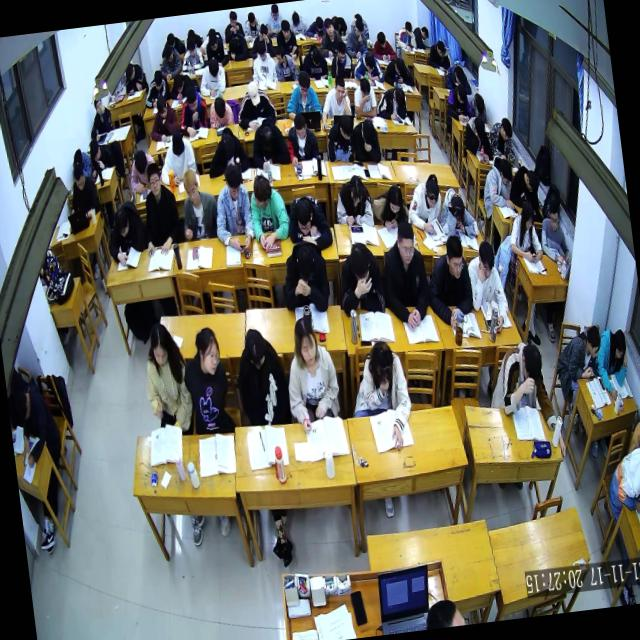bow: (102, 198, 149, 267), (283, 188, 333, 252), (202, 122, 251, 178), (246, 116, 292, 174), (436, 180, 479, 240), (369, 181, 410, 233), (505, 162, 543, 210), (350, 47, 385, 89), (382, 54, 416, 89), (443, 61, 472, 99), (206, 92, 234, 128), (68, 142, 92, 178), (122, 57, 148, 88), (167, 68, 193, 99), (226, 28, 250, 60), (326, 8, 349, 38), (302, 13, 326, 40)
down: (367, 337, 397, 384), (518, 340, 546, 386), (448, 304, 482, 341), (242, 324, 268, 372), (442, 233, 467, 281), (346, 240, 372, 284), (292, 241, 316, 281), (8, 384, 32, 422), (180, 166, 202, 206), (223, 161, 245, 201), (476, 238, 496, 282), (292, 197, 314, 234), (422, 170, 441, 208), (584, 321, 602, 358), (256, 120, 276, 153), (385, 182, 404, 215), (610, 326, 628, 359), (448, 194, 466, 226), (518, 200, 536, 232), (217, 130, 236, 160), (348, 173, 365, 205), (112, 206, 130, 236), (358, 117, 376, 147), (336, 112, 354, 142), (522, 164, 540, 194), (296, 68, 312, 100), (292, 110, 308, 140), (169, 128, 186, 156), (132, 146, 148, 175), (498, 157, 514, 186), (184, 82, 199, 112), (498, 116, 514, 143), (72, 162, 86, 190), (356, 73, 371, 99), (471, 114, 486, 140), (212, 96, 228, 120), (333, 75, 347, 102), (154, 94, 168, 120), (362, 47, 376, 73), (392, 84, 407, 108), (278, 16, 292, 40), (185, 34, 198, 59), (171, 72, 185, 95), (472, 92, 486, 115), (392, 53, 406, 75), (452, 62, 466, 84), (254, 38, 267, 61), (256, 22, 270, 43), (352, 17, 366, 38), (88, 138, 100, 162), (152, 66, 164, 90), (206, 56, 220, 76), (225, 34, 239, 54), (334, 40, 348, 60), (374, 28, 388, 48), (207, 31, 220, 52), (310, 46, 322, 68), (434, 36, 446, 58), (455, 81, 467, 102), (72, 148, 84, 168), (124, 62, 136, 82), (162, 42, 174, 62), (268, 3, 280, 21), (246, 8, 256, 28), (290, 6, 300, 26), (227, 10, 238, 28), (314, 14, 324, 32), (403, 20, 413, 38), (418, 21, 428, 38), (166, 31, 176, 45)
lookup: (194, 325, 224, 381), (290, 314, 320, 368), (393, 217, 418, 266), (146, 319, 170, 369), (145, 160, 163, 197), (546, 198, 562, 230), (322, 13, 334, 36), (92, 93, 104, 114)
sit: (344, 335, 416, 456), (278, 310, 344, 436), (486, 336, 558, 438), (373, 215, 434, 332), (137, 316, 195, 438), (176, 321, 236, 436), (230, 322, 292, 430), (420, 231, 478, 334), (7, 375, 63, 470), (206, 158, 256, 255), (136, 156, 183, 256), (464, 238, 512, 334), (276, 236, 332, 318), (333, 238, 387, 320), (245, 168, 292, 250), (550, 322, 606, 386), (175, 162, 220, 240), (590, 320, 633, 400), (502, 197, 544, 268), (402, 172, 445, 238), (602, 442, 640, 516), (154, 126, 198, 186), (330, 169, 374, 229), (232, 78, 279, 133), (536, 196, 572, 266), (280, 64, 324, 120), (478, 151, 516, 211), (65, 161, 102, 222), (315, 73, 353, 131), (282, 110, 320, 168), (173, 80, 211, 135), (322, 110, 358, 162), (146, 90, 180, 144), (348, 114, 382, 167), (124, 144, 159, 194), (461, 110, 493, 161), (485, 115, 517, 165), (246, 37, 278, 84), (314, 10, 345, 58), (444, 77, 474, 124), (195, 56, 228, 98), (349, 76, 379, 122), (374, 85, 409, 124), (85, 94, 114, 140), (139, 65, 170, 107), (272, 15, 300, 61), (86, 137, 116, 178), (246, 20, 276, 61), (326, 39, 354, 81), (343, 15, 369, 60), (271, 42, 300, 82), (199, 28, 229, 66), (300, 41, 328, 80), (178, 33, 205, 71), (370, 24, 398, 60), (156, 42, 182, 80), (220, 8, 245, 44), (465, 87, 488, 125), (426, 34, 451, 68), (262, 3, 285, 39), (394, 20, 418, 54), (240, 8, 262, 44), (286, 6, 308, 35), (412, 23, 431, 51)
